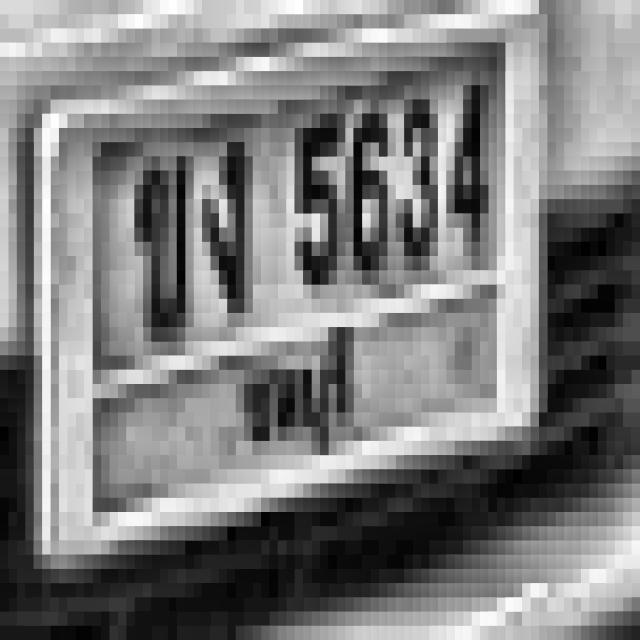license-plate: (35, 0, 564, 592)
